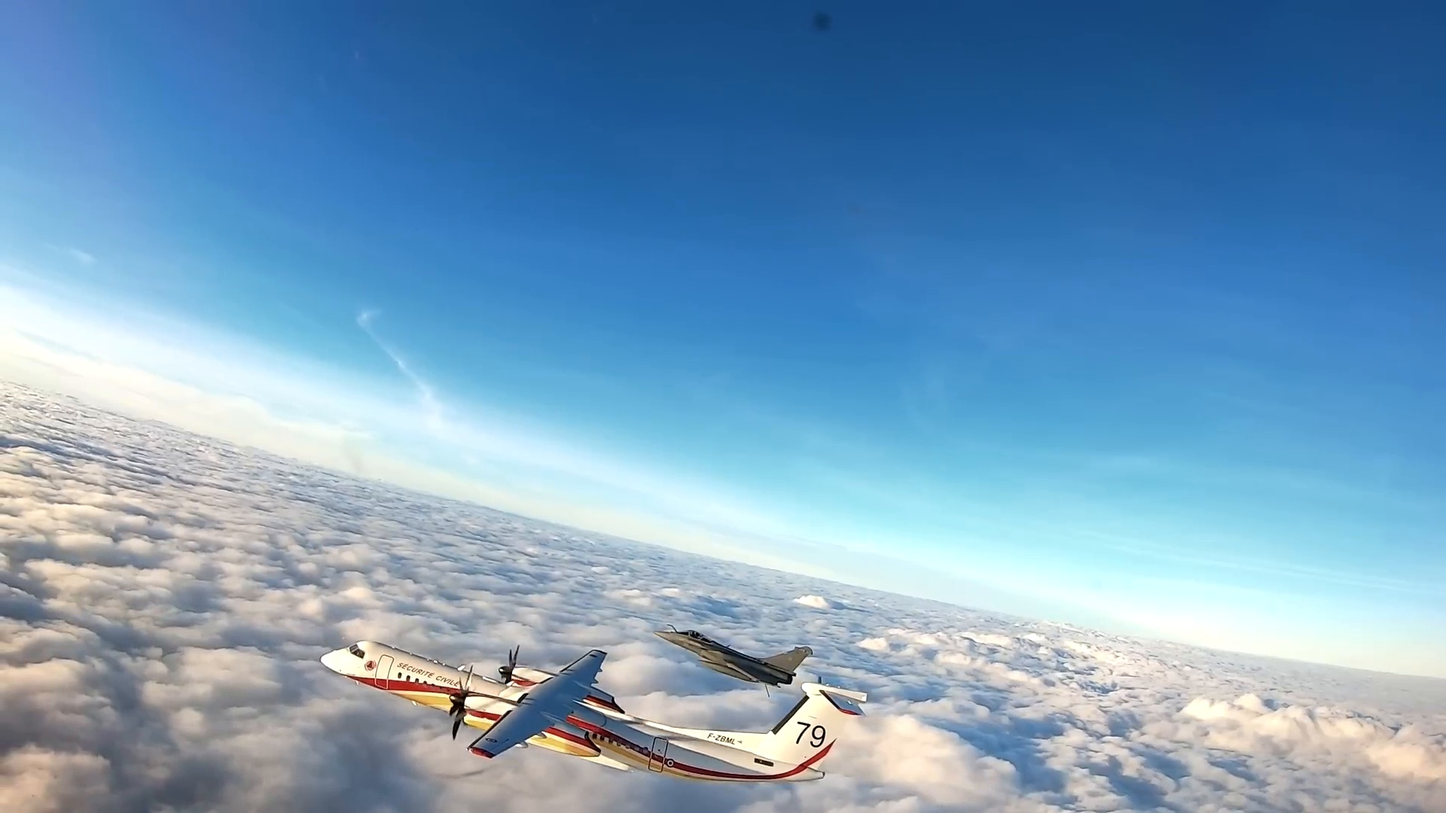Rafale: (651, 624, 822, 689)
